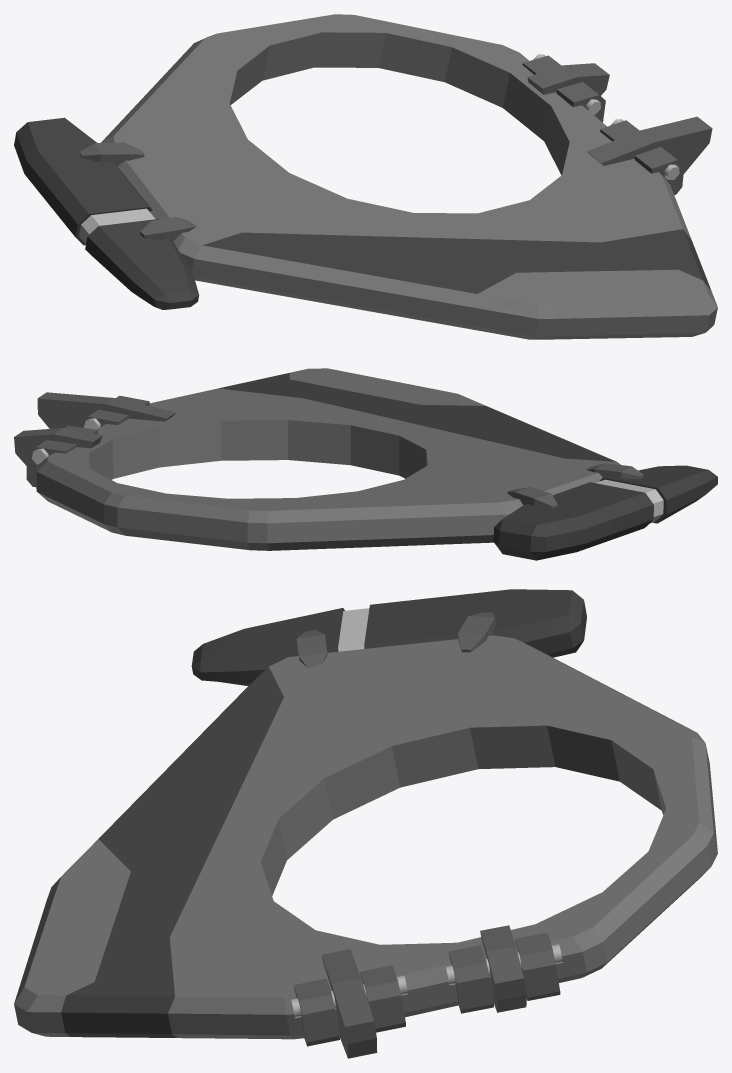
File: WingRight_001.fbx
3 renders of one model, top to bottom at view 1: azimuth 30°, elevation 25°; view 2: azimuth 150°, elevation 25°; view 3: azimuth 270°, elevation 25°, orthographic. The views are drawn at different scales.
Parts seen in each view (by area): view 1: WingRight_001; view 2: WingRight_001; view 3: WingRight_001.
Part boxes in pixels (bbox=[...]): WingRight_001: bbox=[14, 14, 717, 339]; WingRight_001: bbox=[14, 368, 717, 560]; WingRight_001: bbox=[14, 589, 717, 1058].
Bounding box in the file's own units: 1416 × 1161 × 336.
